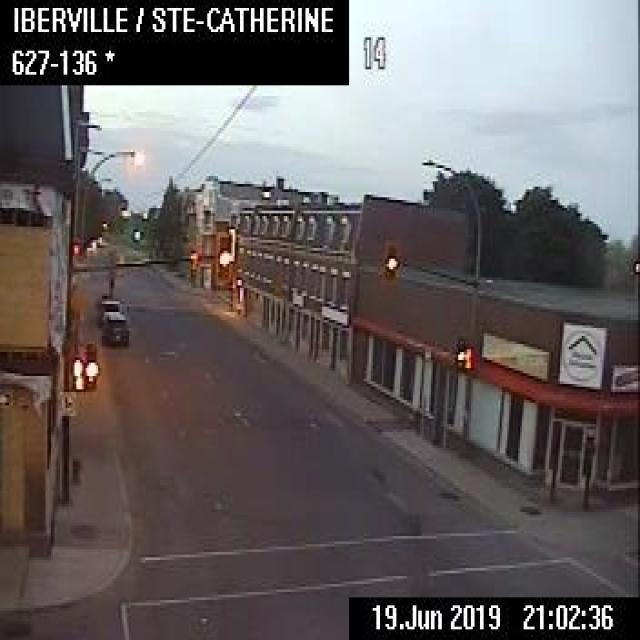vehicle: (98, 310, 129, 344), (98, 294, 121, 315)
